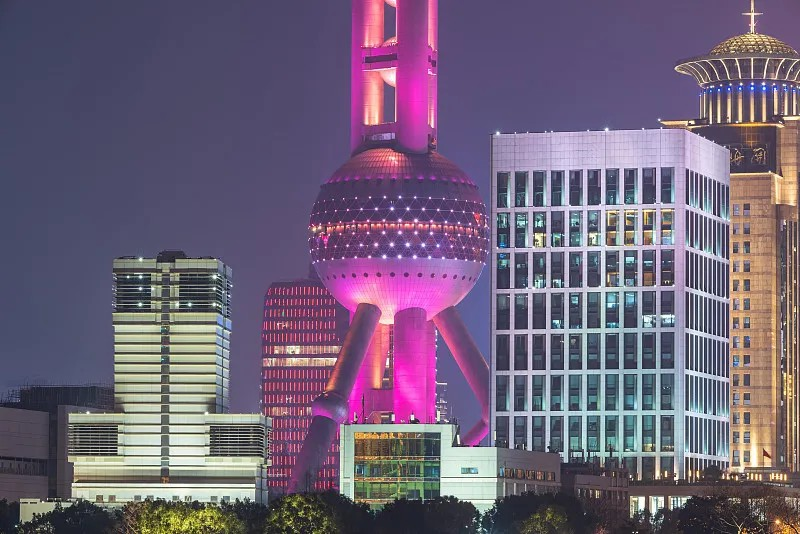Oriental: (288, 1, 489, 494)
